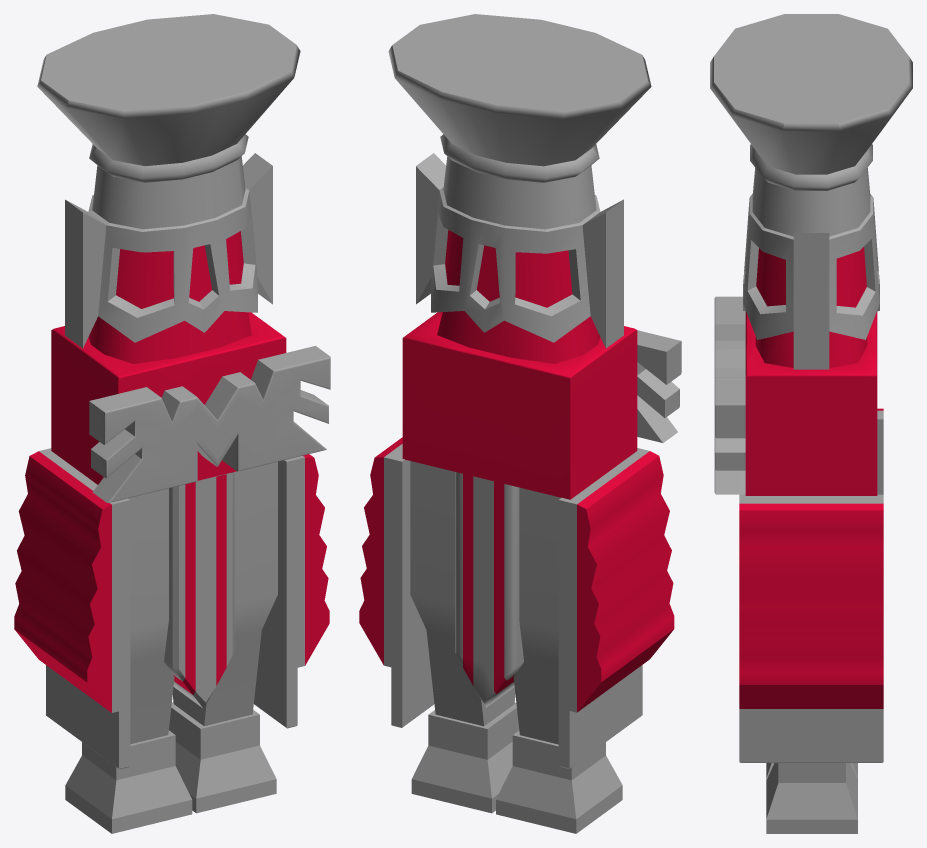
The model's file is Statua_azteca.fbx.
3 views of the same model, side by side, from view 1: azimuth 30°, elevation 25°; view 2: azimuth 150°, elevation 25°; view 3: azimuth 270°, elevation 25° (orthographic).
Visible parts, largest first — view 1: Statua_azteca; view 2: Statua_azteca; view 3: Statua_azteca.
Boxes of the visible parts, bbox=[...] form: Statua_azteca: bbox=[14, 14, 330, 833]; Statua_azteca: bbox=[359, 14, 681, 833]; Statua_azteca: bbox=[710, 14, 912, 833].
Bounding box in the file's own units: 2.31 × 6.71 × 1.7.
